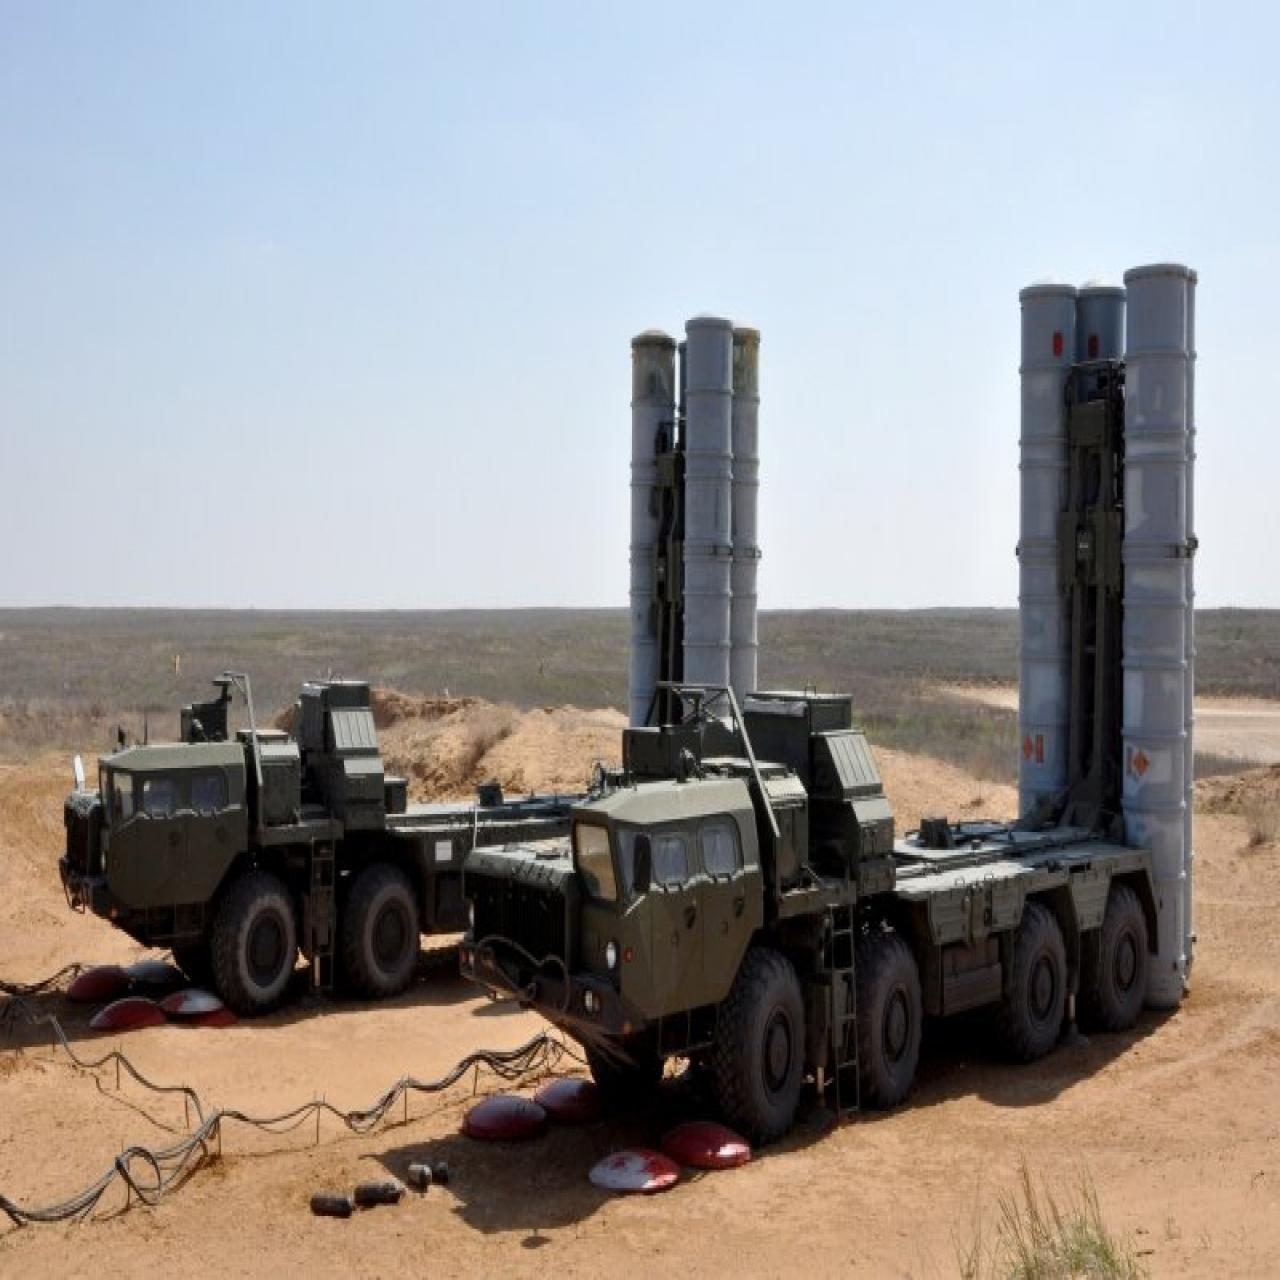MIL_Veh: (463, 260, 1200, 1152), (63, 309, 757, 1005)
